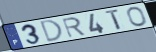3: (21, 23, 45, 46)
4: (88, 12, 106, 35)
D: (40, 19, 65, 44)
O: (126, 6, 148, 27)
R: (61, 16, 88, 39)
T: (104, 8, 123, 32)
